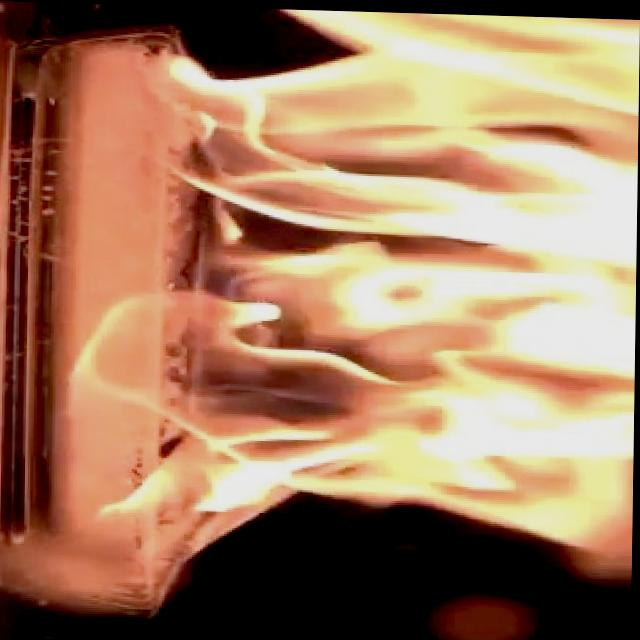no_helmet: (70, 30, 640, 579)
